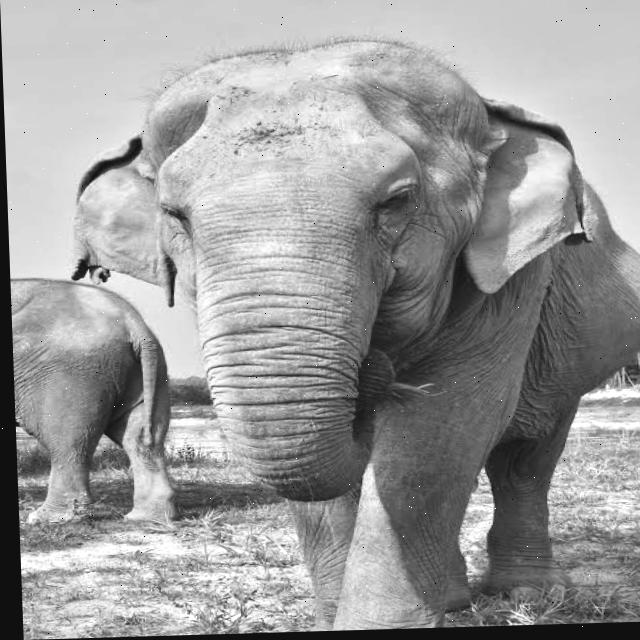Elephant: (61, 28, 640, 637), (10, 273, 180, 528)
